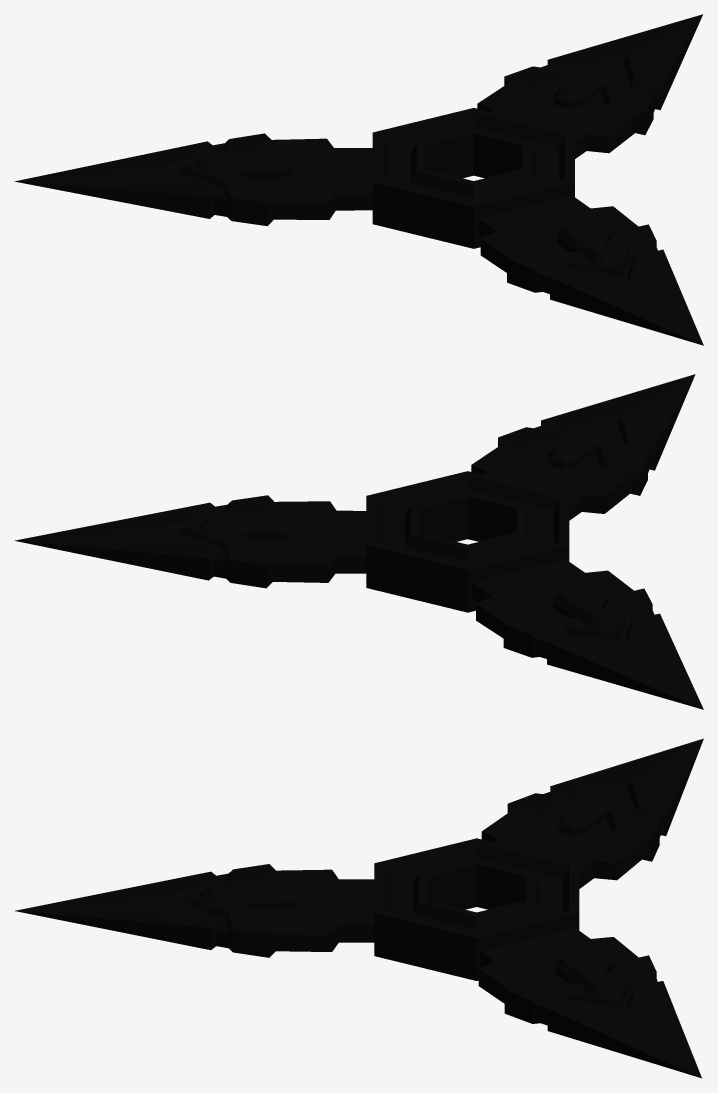
Rendered from cyber_SM_Wep_Shuriken_03.gltf.
The picture shows the model from 3 angles, top to bottom: view 1: azimuth 30°, elevation 25°; view 2: azimuth 150°, elevation 25°; view 3: azimuth 270°, elevation 25°; orthographic projection.
Parts seen in each view (by area): view 1: SM_Wep_Shuriken_03; view 2: SM_Wep_Shuriken_03; view 3: SM_Wep_Shuriken_03.
Boxes of the visible parts, <box> form: SM_Wep_Shuriken_03: <box>14,14,703,345</box>; SM_Wep_Shuriken_03: <box>15,374,703,709</box>; SM_Wep_Shuriken_03: <box>15,738,703,1078</box>.
Size of the model in its own units: 0.2634 by 0.0155 by 0.2259.
1 material, 1 textured.
